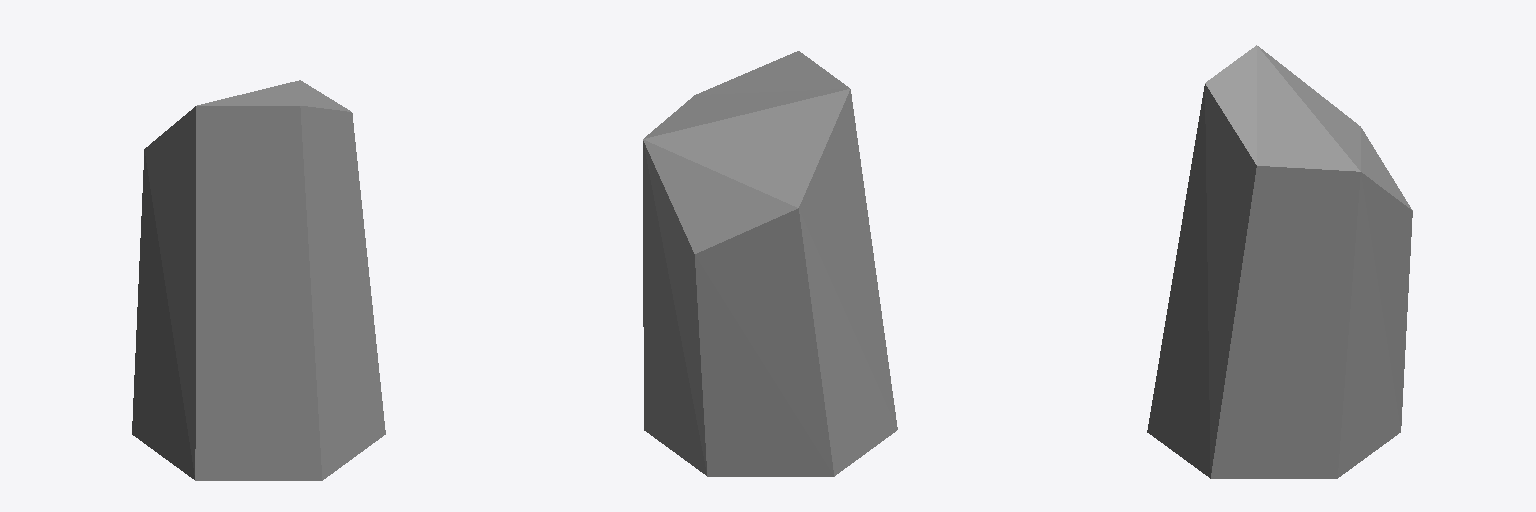
Rendered from tree_broke.obj.
3 views of the same model, side by side, from view 1: azimuth 30°, elevation 25°; view 2: azimuth 150°, elevation 25°; view 3: azimuth 270°, elevation 25° (orthographic).
Parts seen in each view (by area): view 1: Cylinder; view 2: Cylinder; view 3: Cylinder.
Boxes of the visible parts, x1=… form: Cylinder: x1=132, y1=80, x2=385, y2=480; Cylinder: x1=643, y1=51, x2=897, y2=476; Cylinder: x1=1147, y1=45, x2=1412, y2=478.
Bounding box in the file's own units: 0.8713 × 1.54 × 1.05.